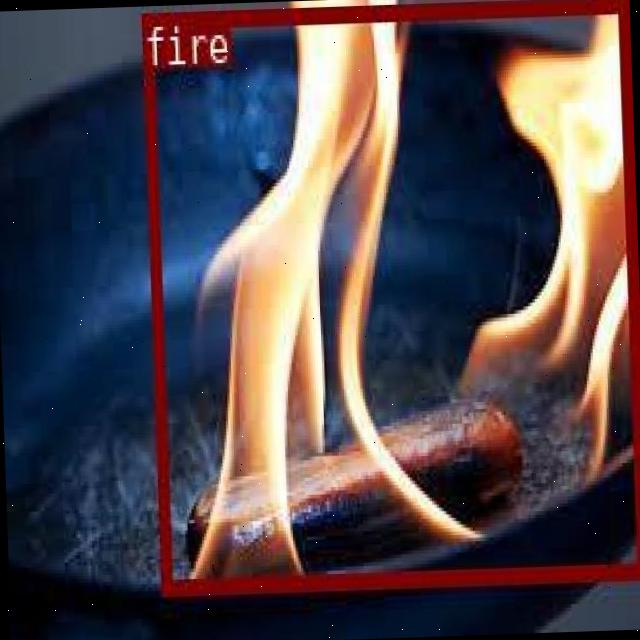fire: (141, 0, 640, 591)
